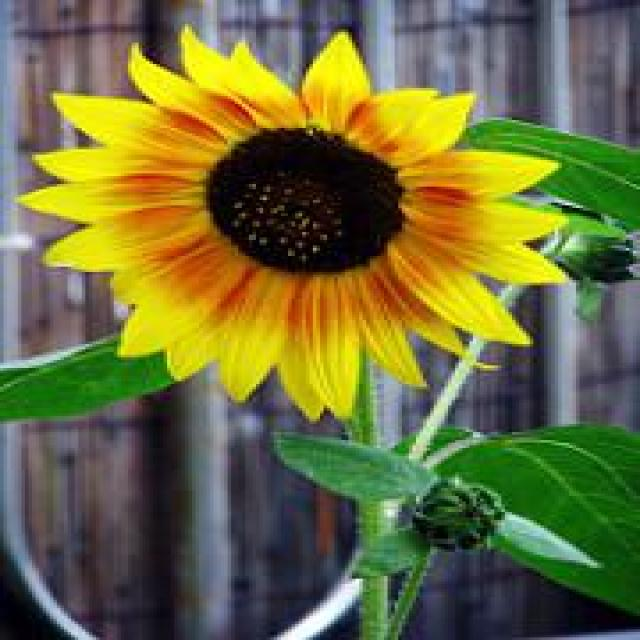sunflower: (32, 29, 565, 411)
